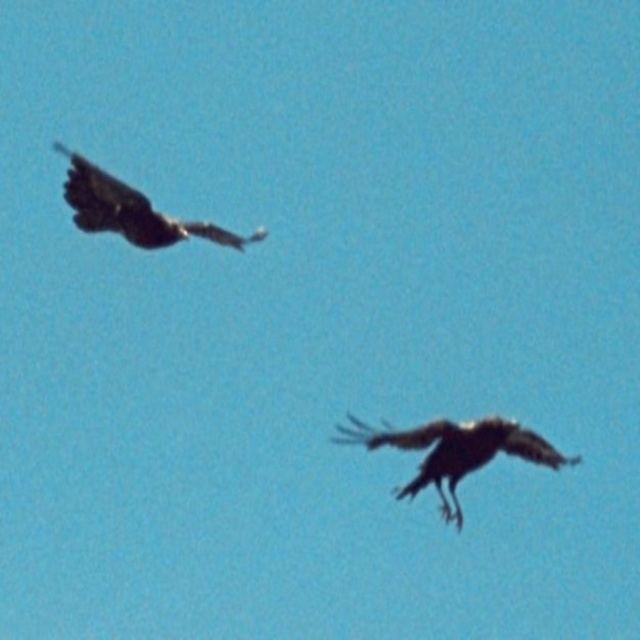Eagle: (329, 404, 589, 541), (52, 138, 269, 261)
